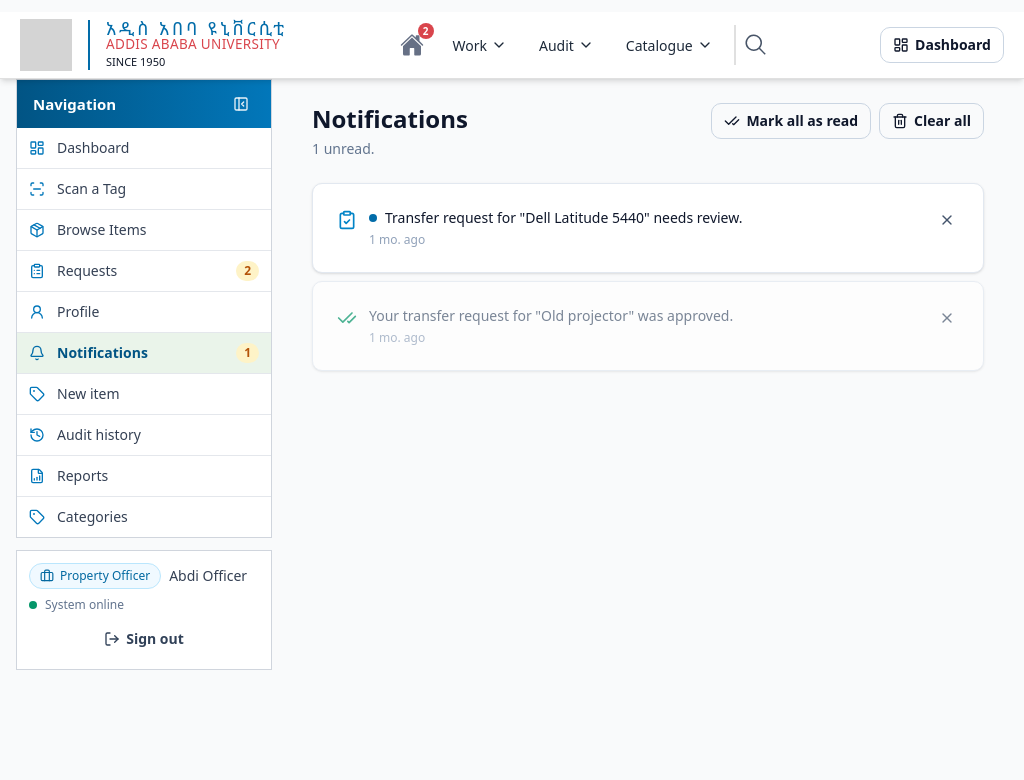
Test case: notifications › links a notification to its related request
What coordinates should you click on to do the following:
click the link "needs review"
I would click on:
 (556, 228)
Its box is 369,208 -> 742,248.
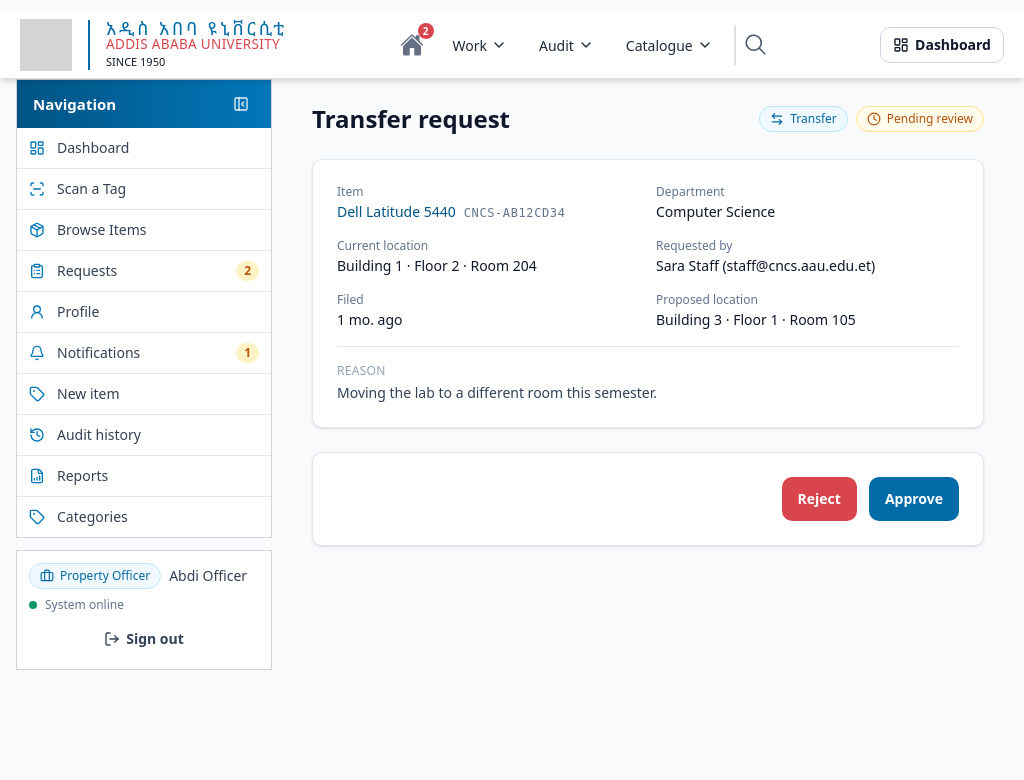
expect the heading "Transfer request" is shown: met, box 312,103 -> 510,135
